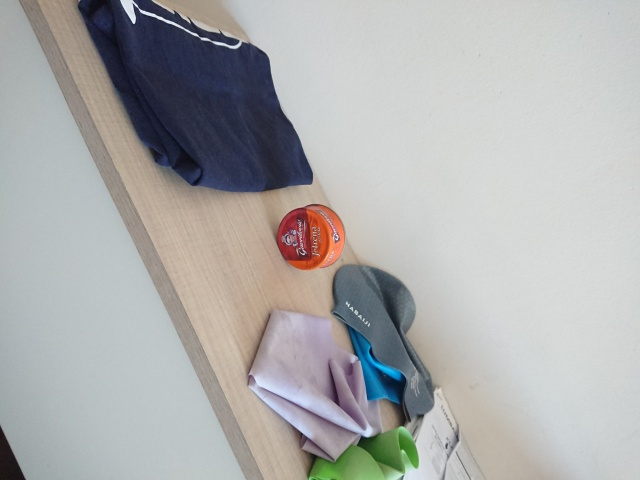Gavrilovic Pork Liver Pate 100g: (273, 201, 348, 272)
